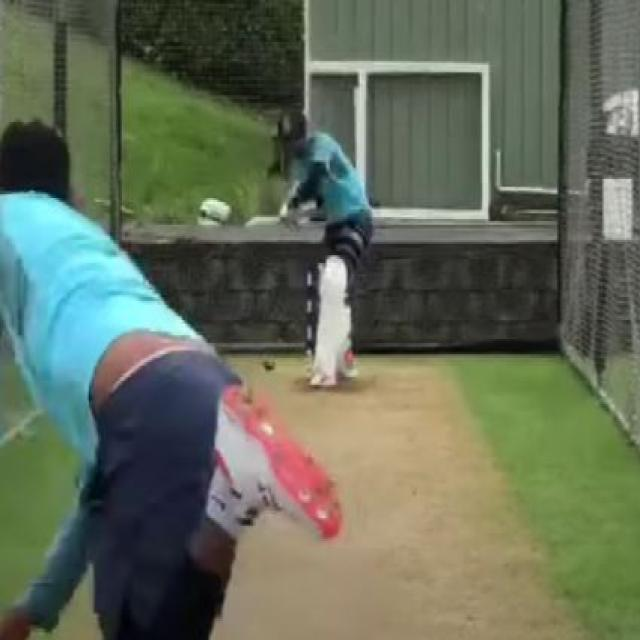ball: (261, 349, 282, 377)
